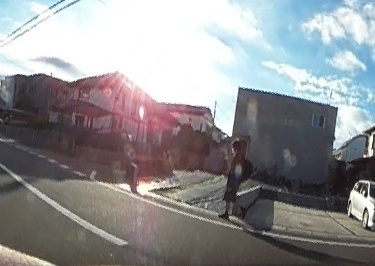person: (219, 136, 246, 220)
